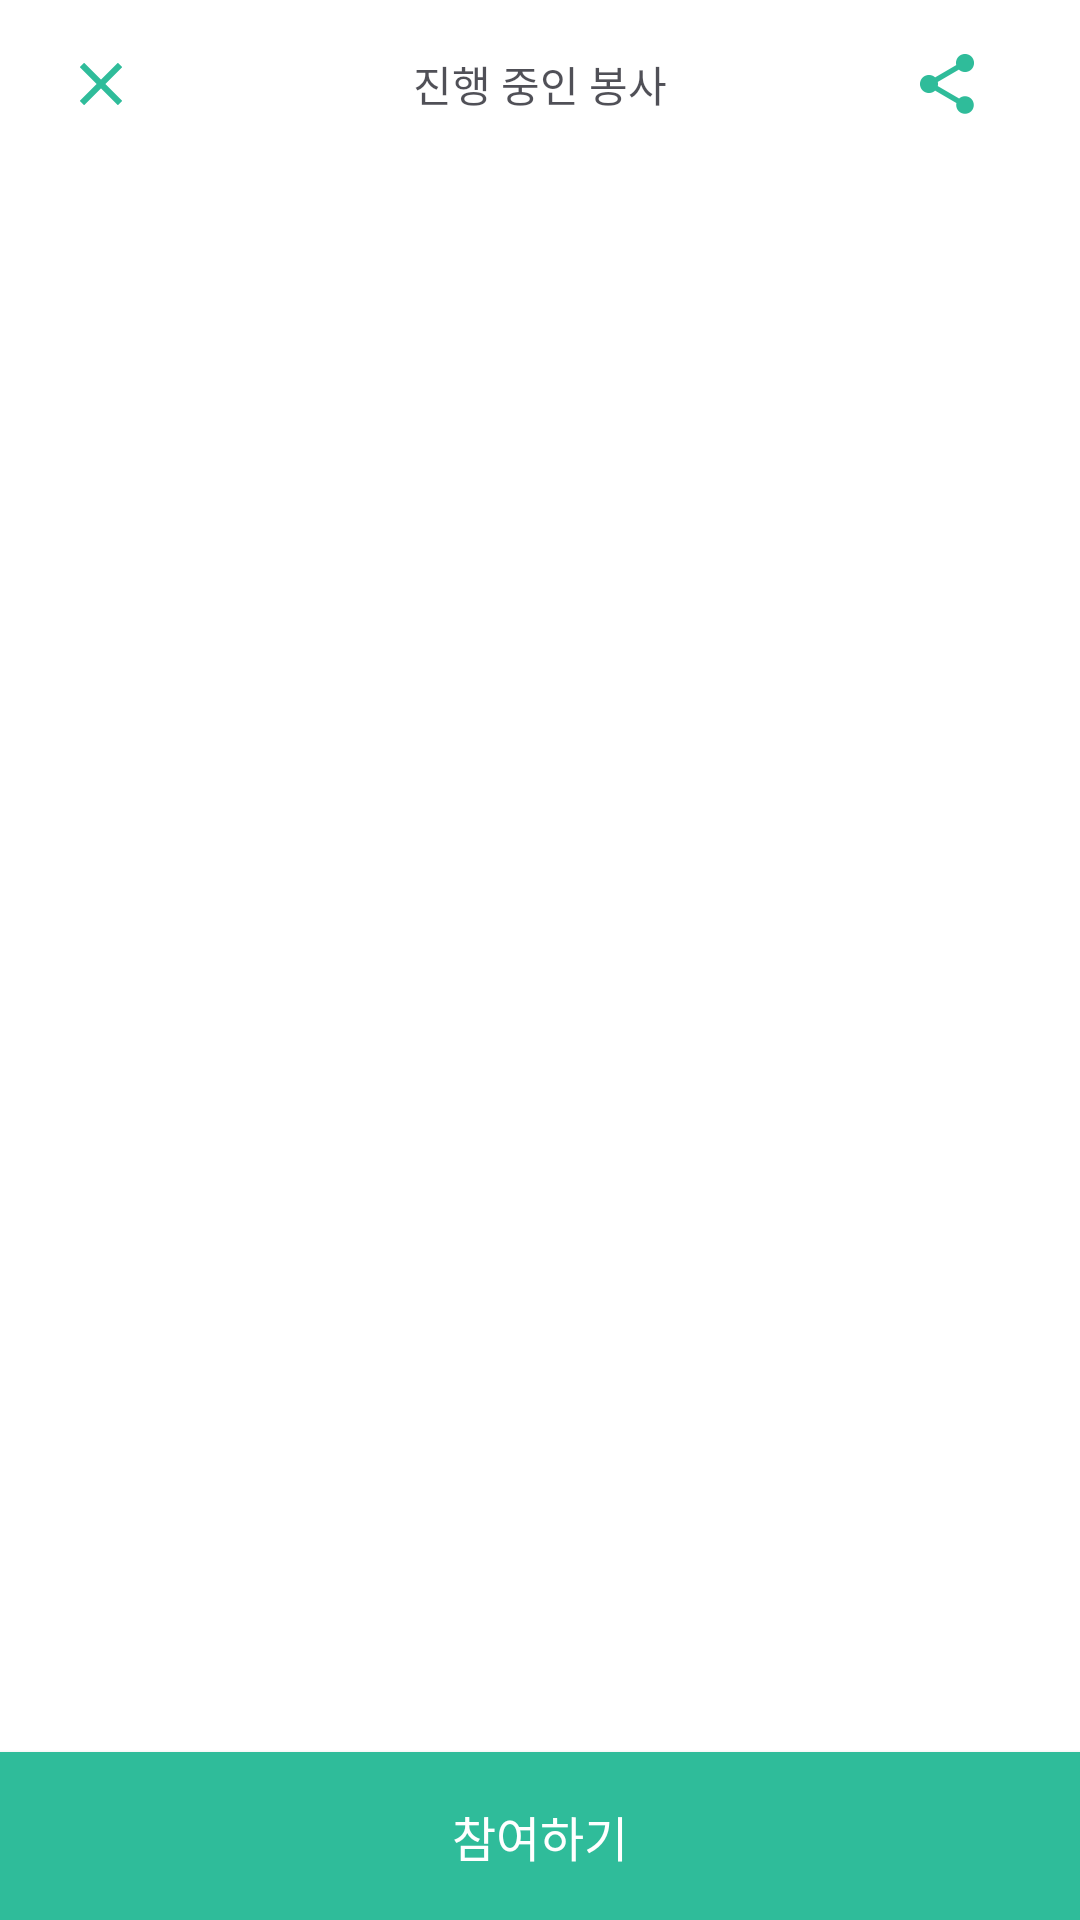

Icons on this 1080×1920 Android screen, each with its box as (x1, y1, x2, y2):
close: (80, 63, 122, 105)
share: (920, 54, 974, 114)
